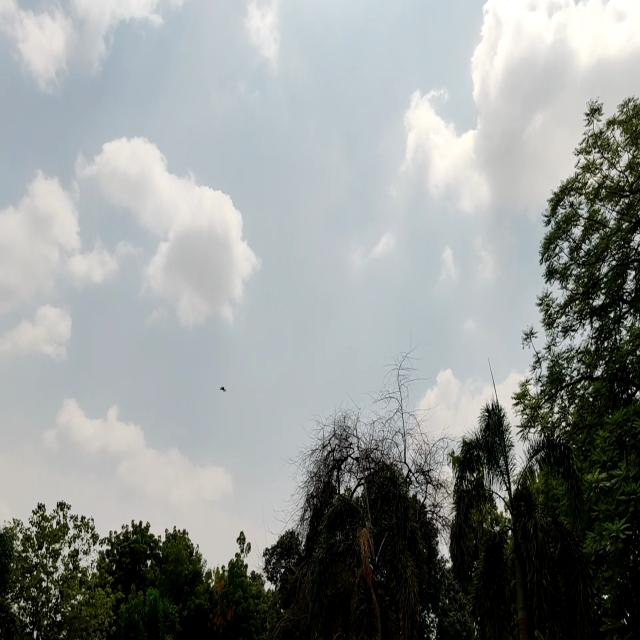drone: (217, 378, 230, 398)
